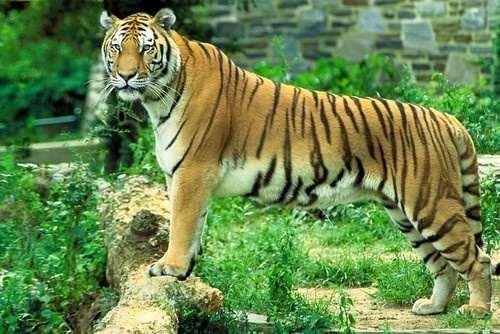tigre: (97, 6, 500, 321)
